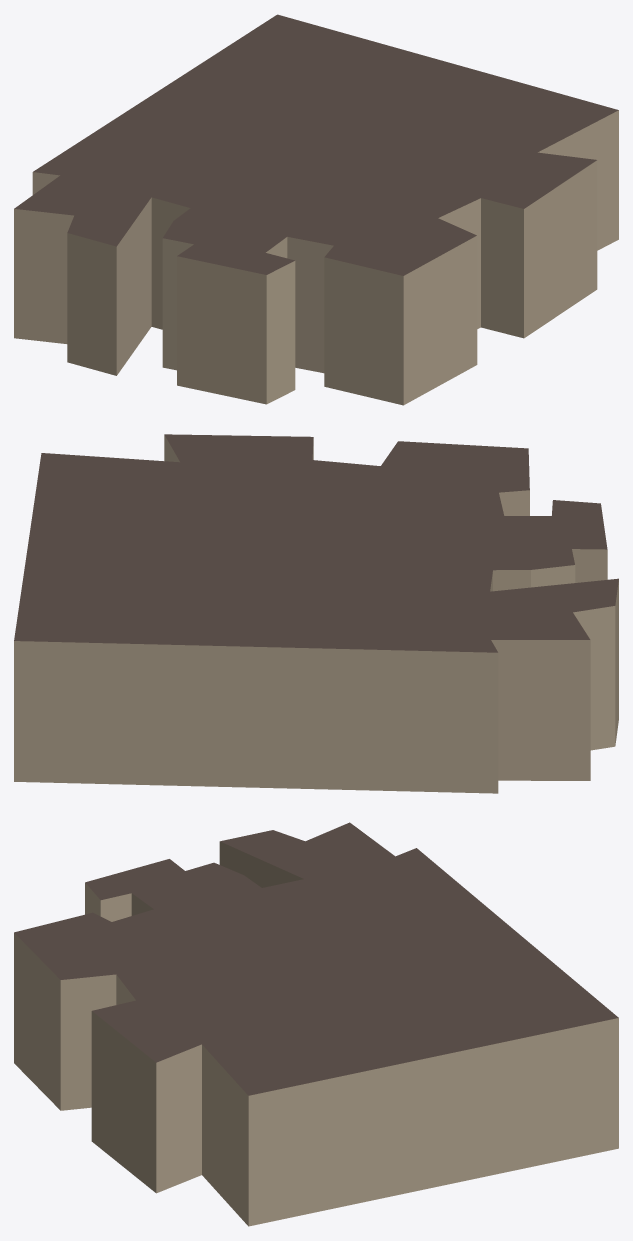
3 views of the same model, one above another, from view 1: azimuth 30°, elevation 25°; view 2: azimuth 150°, elevation 25°; view 3: azimuth 270°, elevation 25° (orthographic). The views are drawn at different scales.
Visible parts, largest first — view 1: HP-w1512359804; view 2: HP-w1512359804; view 3: HP-w1512359804.
Part boxes in pixels (left/top/right/bottom): HP-w1512359804: left=14, top=14, right=618, bottom=405; HP-w1512359804: left=14, top=434, right=618, bottom=793; HP-w1512359804: left=14, top=822, right=618, bottom=1226.
Bounding box in the file's own units: 40.37 × 9 × 37.75.
